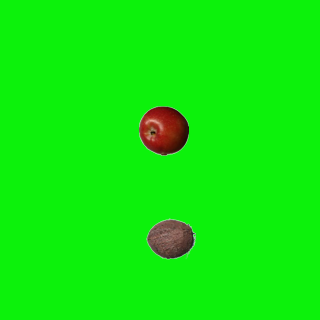Apple Braeburn: (138, 105, 188, 155)
Cocos: (145, 213, 195, 263)
